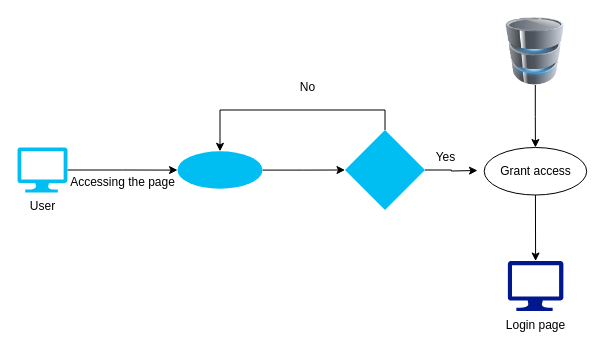
Image size: 604x349. Some labels were removed from this diagram. Here are the shapes that lost their labels. From the top down, the centre of each, then its label:
At [219,169]: "URL".
At [384,170]: "Authenticated".
